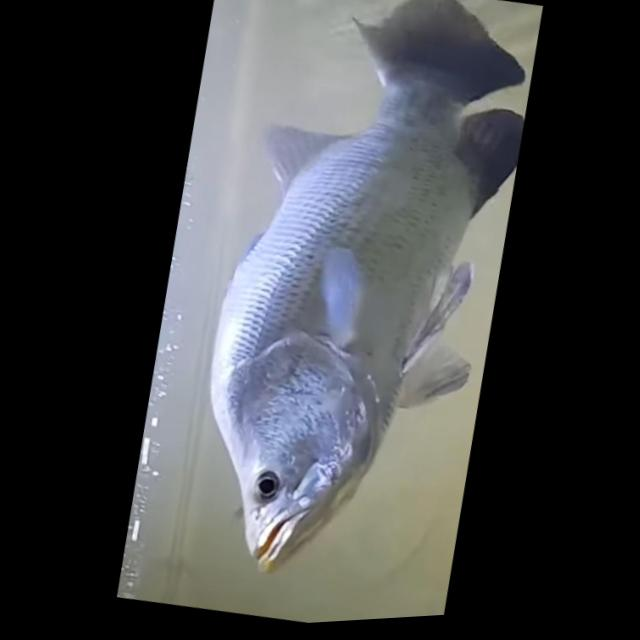Seabass: (159, 0, 559, 608)
